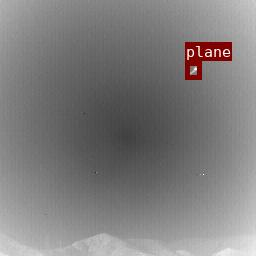plane: (185, 61, 201, 79)
